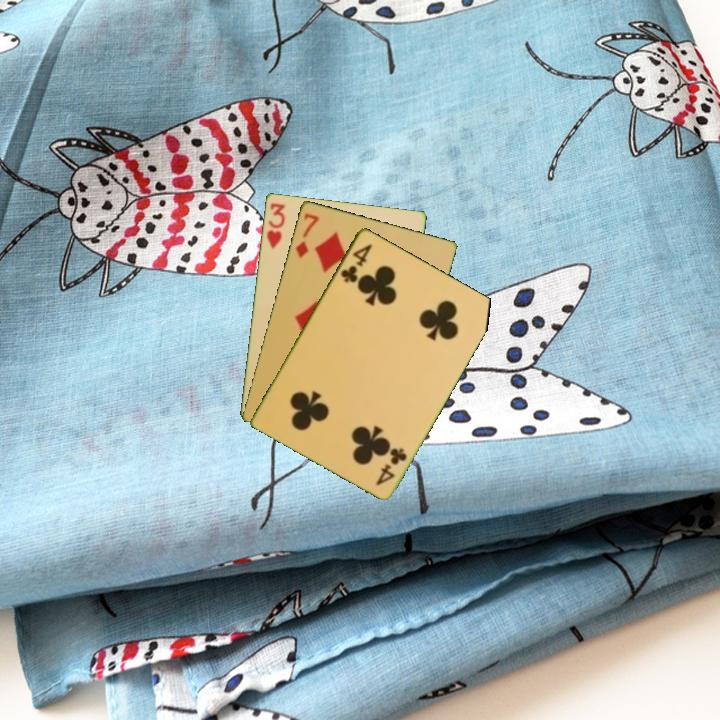3h: (263, 199, 288, 252)
4c: (337, 240, 375, 285), (372, 444, 410, 489)
7d: (292, 209, 321, 260)
